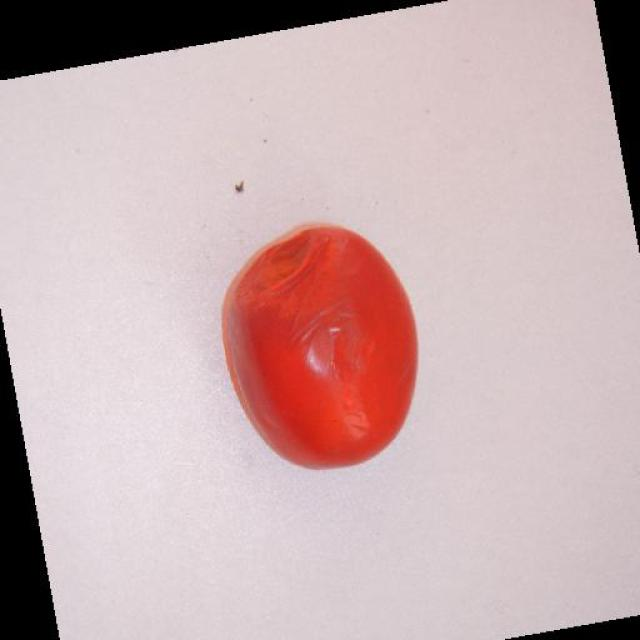Stale_tomato: (223, 238, 437, 471)
